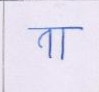aa_matra: (61, 30, 65, 62)
